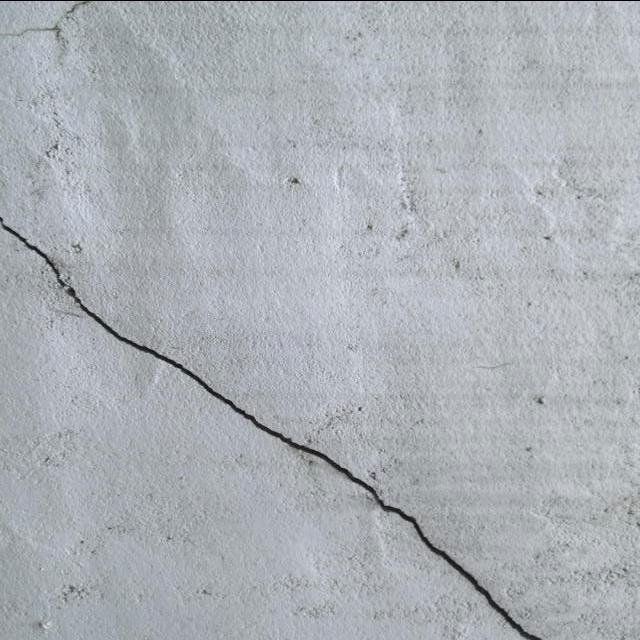SurfaceCrack: (0, 18, 636, 640)
